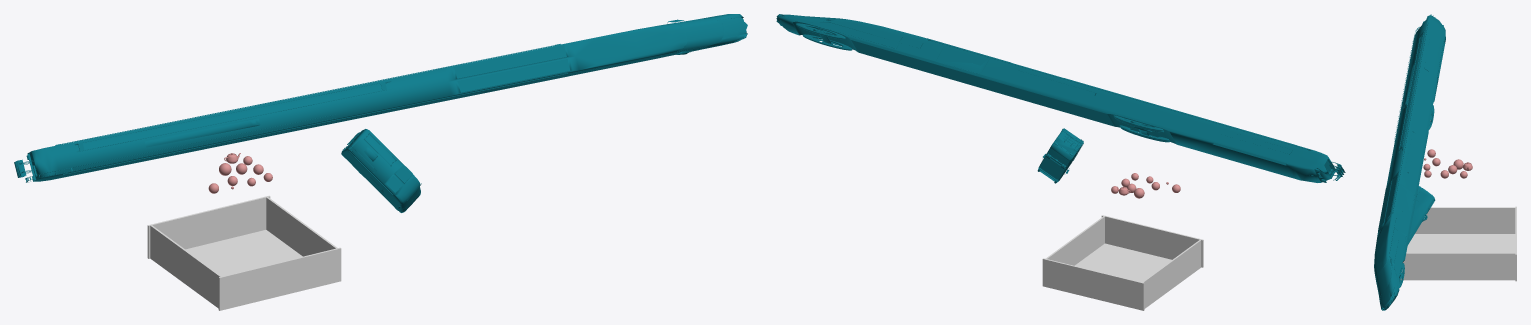
The picture shows the model from 3 angles, left to right: view 1: azimuth 30°, elevation 25°; view 2: azimuth 150°, elevation 25°; view 3: azimuth 270°, elevation 25°; orthographic projection. The views are drawn at different scales.
Visible parts, largest first — view 1: hymer001, Box005, Box004, hymer, Box001, Box002, Box003; view 2: hymer001, Box004, Box005, Box001, Box002, hymer, Box003; view 3: hymer001, Box003, Box002, Box001, hymer, Box004.
Boxes of the visible parts, x1,y1,x2,y2 form: hymer001: (14,14,747,182); Box005: (218,247,341,310); Box004: (147,195,270,258); hymer: (341,129,421,212); Box001: (185,230,302,276); Box002: (150,225,221,308); Box003: (266,197,337,256); hymer001: (776,14,1345,182); Box004: (1042,258,1144,310); Box005: (1101,215,1203,267); Box001: (1074,243,1171,282); Box002: (1142,239,1201,308); hymer: (1037,128,1083,183); Box003: (1045,216,1104,265); hymer001: (1374,14,1445,310); Box003: (1403,253,1515,280); Box002: (1415,207,1515,233); Box001: (1406,234,1515,252); hymer: (1407,186,1435,245); Box004: (1515,206,1516,281).
Size of the model in its own units: 114 by 29.14 by 24.67.
